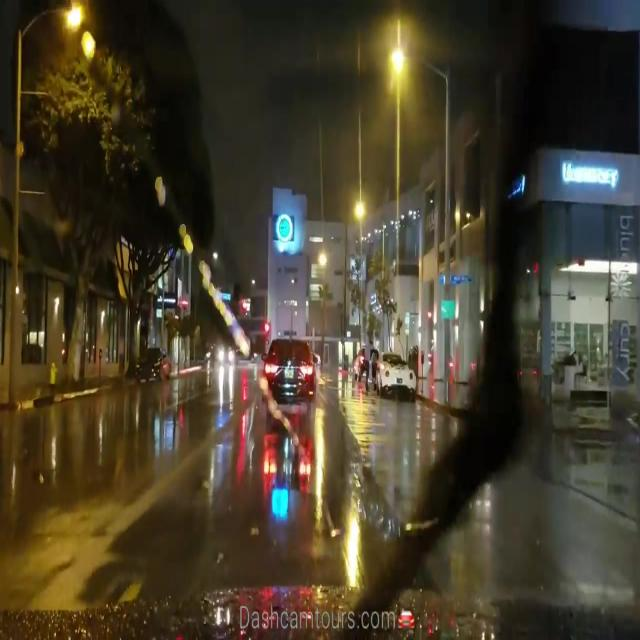Car: (261, 334, 312, 409), (376, 349, 416, 401), (135, 345, 170, 381)
